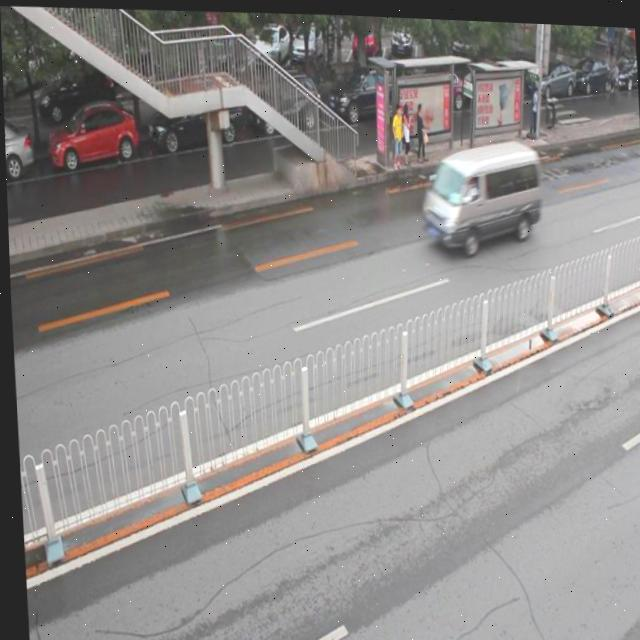car: (145, 82, 243, 157), (46, 99, 138, 175), (326, 57, 404, 124), (249, 69, 321, 136), (4, 124, 30, 189)
truck: (417, 132, 541, 254)
